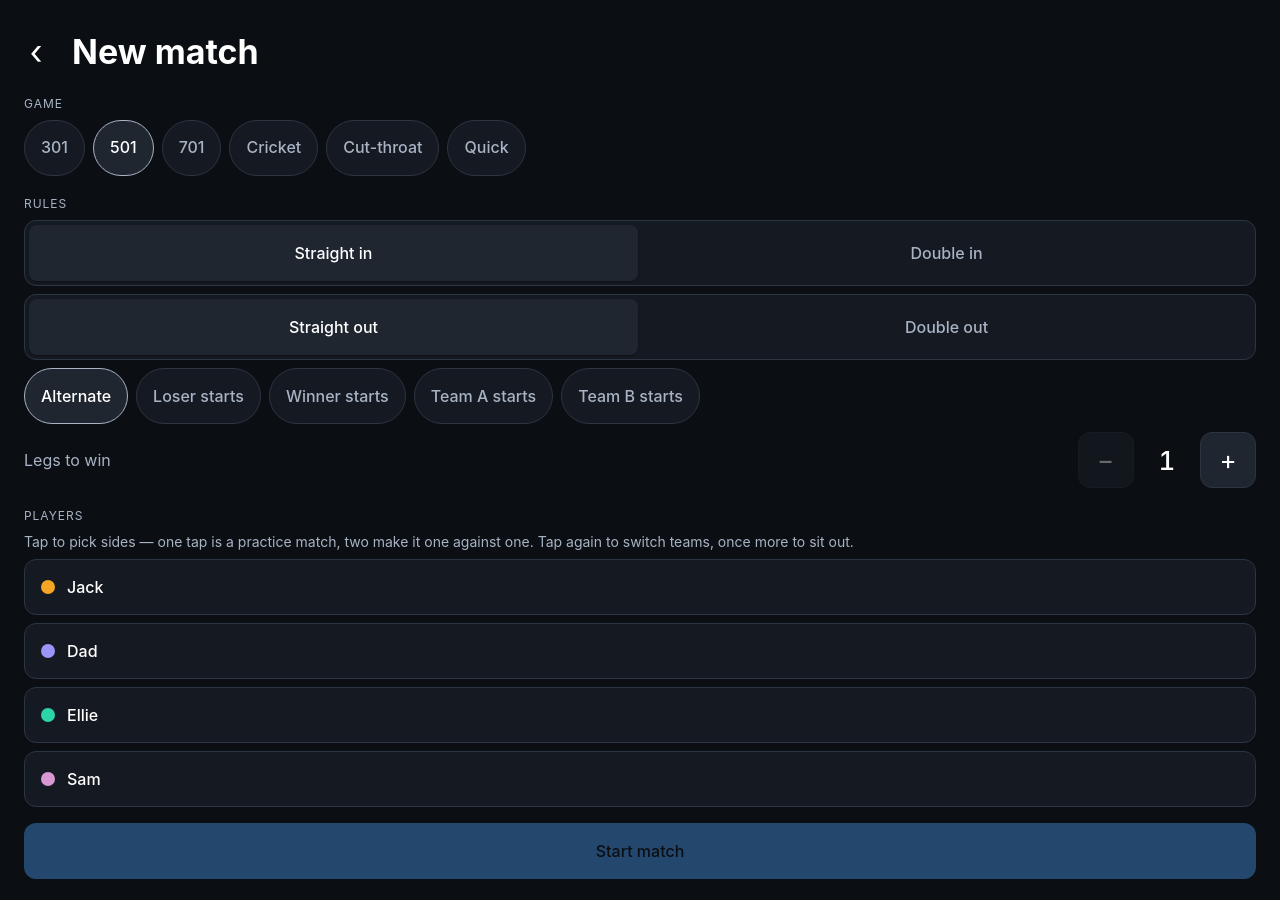
control visibility › hides them when a cricket variant is selected, and brings them back
Click the button with aria-label "Cut-throat cricket" at (383, 148), box left=326, top=120, right=439, bottom=176
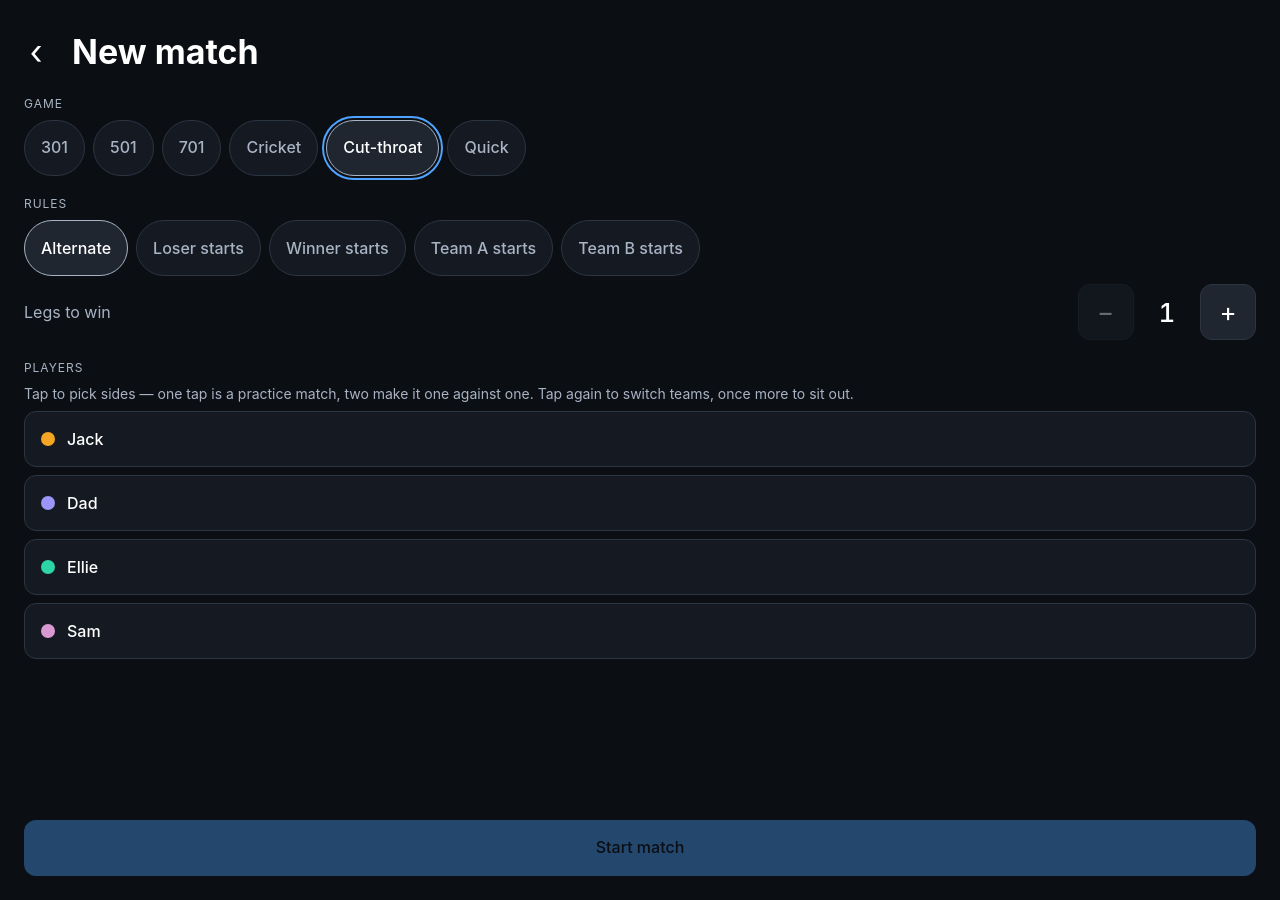
Expected: the button named "Increase Legs to win" is shown, left=1200, top=284, right=1256, bottom=340
Click the button "301" at (54, 148), box left=24, top=120, right=85, bottom=176
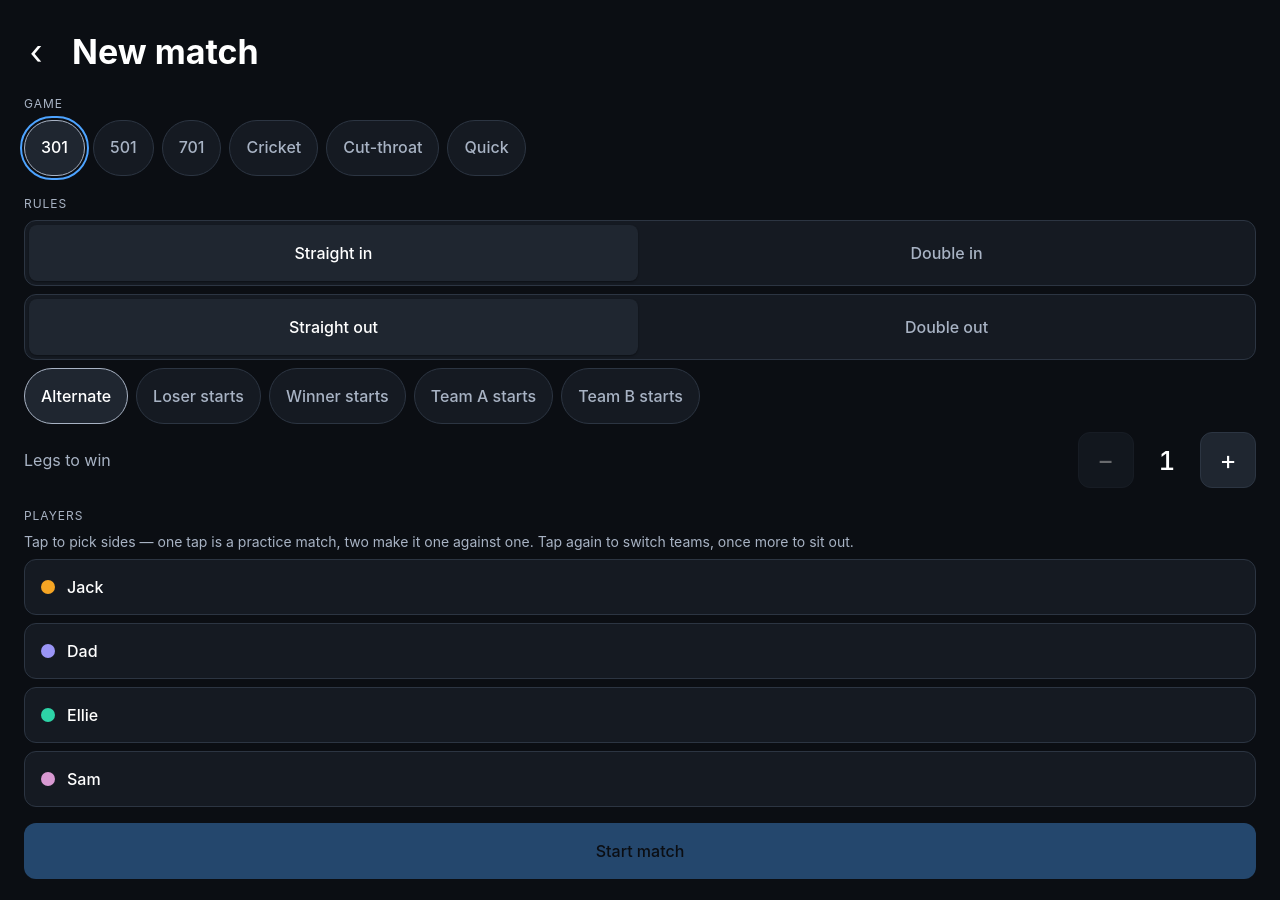
Result: the element named "In rule" is shown at left=24, top=220, right=1256, bottom=286
Result: the element named "Out rule" is shown at left=24, top=294, right=1256, bottom=360
